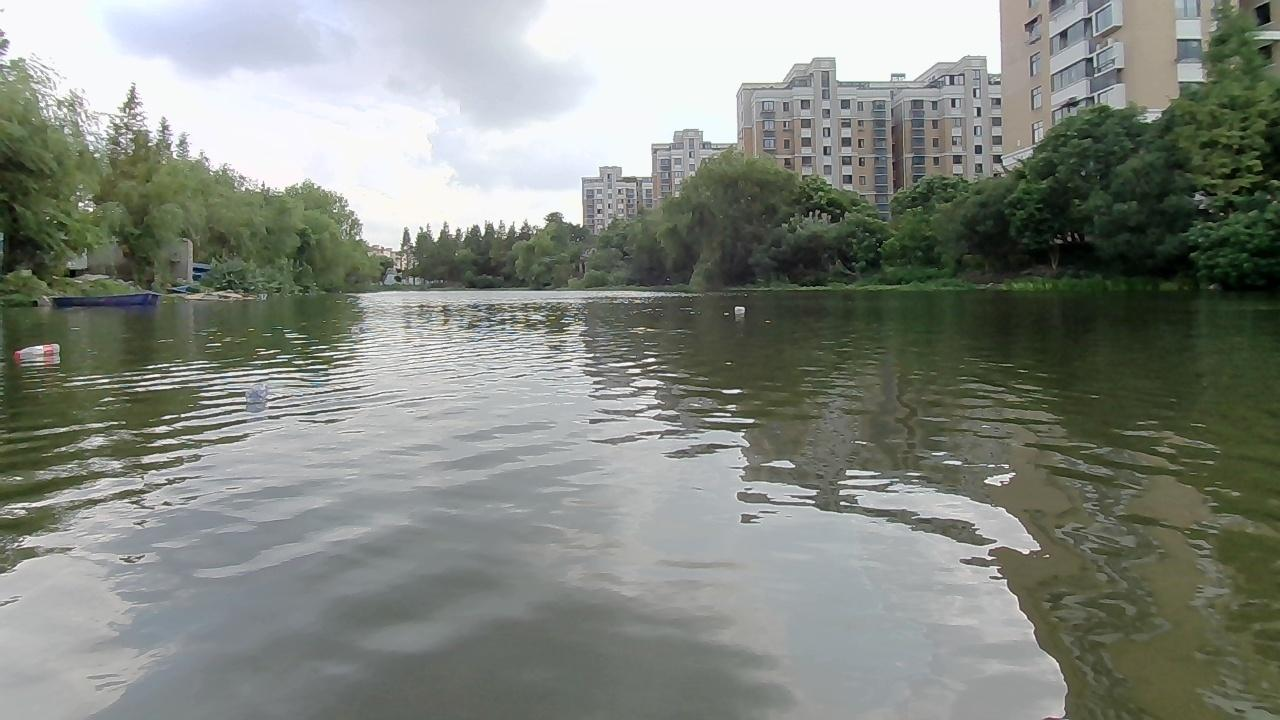bottle: (10, 337, 62, 363), (731, 301, 746, 313)
